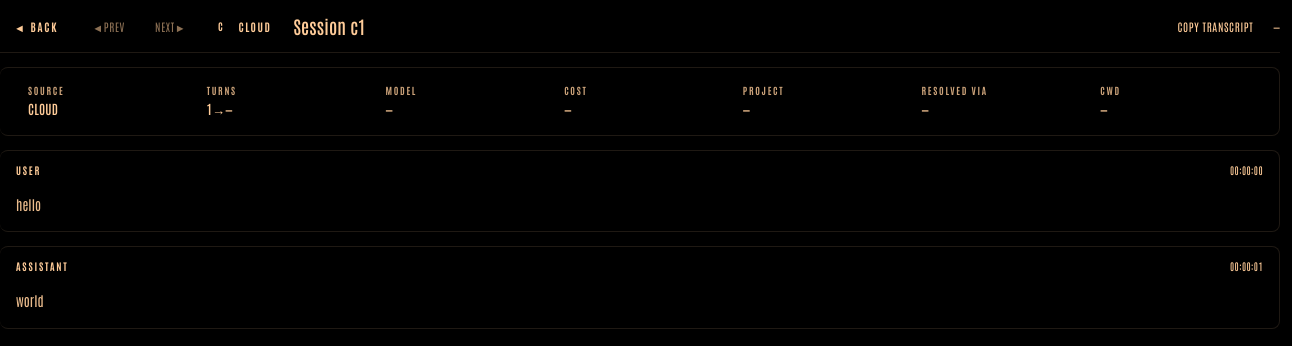
Scenario: DetailMode copy-transcript (AC10) › produces Markdown with ## Human / ## Assistant headers for cloud sessions
This screenshot has width=1292, height=346.
Click the button "COPY TRANSCRIPT" at (1215, 26), box [1177,18,1253,34]
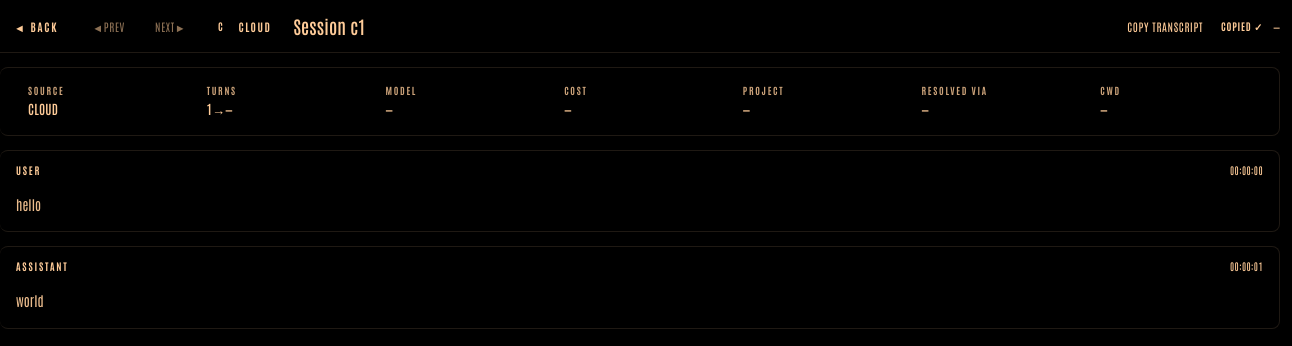
Expected: the message with class "lcars-detail-mode__copy-toast--ok" shows "COPIED", [1221,19,1252,32]
